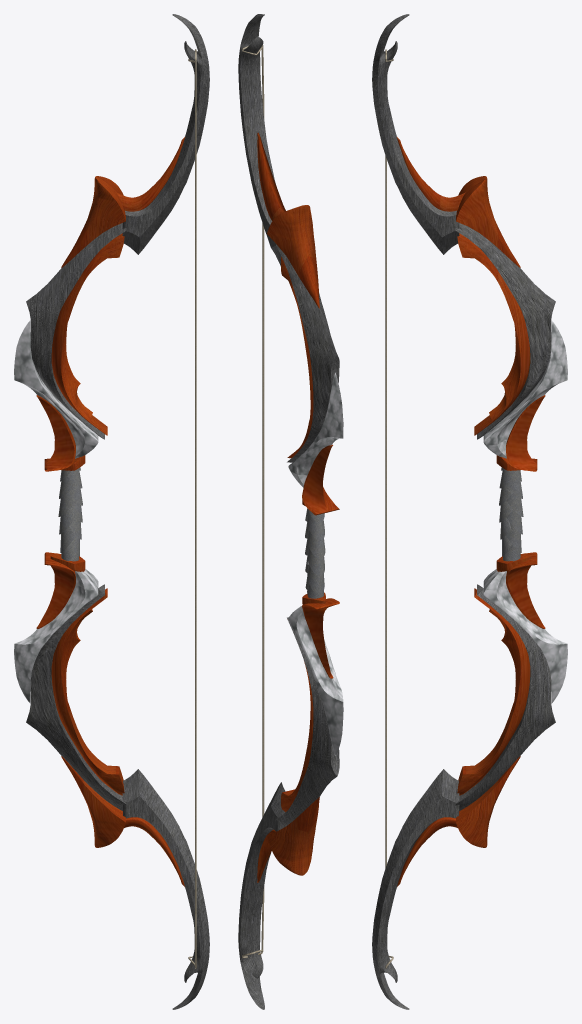
File: Bow.fbx
3 renders of one model, left to right at view 1: azimuth 90°, elevation 25°; view 2: azimuth 210°, elevation 25°; view 3: azimuth 270°, elevation 25°, orthographic.
Visible parts, largest first — view 1: Cube.014, Cube.006, Cube.003, Cube.011, Cube.012, Cube.004, Cube.009, Cube, Cube.005, Cylinder.006, Cylinder, Cube.013 (+4 smaller); view 2: Cube.014, Cube.006, Cube.003, Cube.011, Cube.005, Cube.009, Cylinder, Cube.013, Cube, Cylinder.006, Cube.001, Cube.008 (+4 smaller); view 3: Cube.014, Cube.006, Cube.003, Cube.011, Cube.012, Cube.004, Cube.009, Cube, Cube.005, Cylinder.006, Cube.013, Cylinder (+4 smaller).
Part boxes in pixels (bbox=[...]): Cube.014: bbox=[122, 769, 209, 1009]; Cube.006: bbox=[122, 14, 209, 254]; Cube.003: bbox=[26, 223, 126, 439]; Cube.011: bbox=[26, 584, 126, 810]; Cube.012: bbox=[51, 588, 124, 795]; Cube.004: bbox=[51, 233, 124, 435]; Cube.009: bbox=[14, 569, 98, 703]; Cube: bbox=[14, 320, 98, 458]; Cube.005: bbox=[61, 176, 125, 267]; Cylinder.006: bbox=[58, 467, 82, 561]; Cylinder: bbox=[188, 49, 196, 968]; Cube.013: bbox=[61, 756, 125, 847]; Cube.014: bbox=[238, 782, 285, 1009]; Cube.006: bbox=[238, 14, 281, 266]; Cube.003: bbox=[276, 244, 339, 462]; Cube.011: bbox=[276, 617, 339, 826]; Cube.005: bbox=[267, 205, 319, 308]; Cube.009: bbox=[288, 606, 343, 755]; Cylinder: bbox=[242, 45, 264, 958]; Cube.013: bbox=[267, 797, 319, 875]; Cube: bbox=[288, 372, 343, 487]; Cylinder.006: bbox=[305, 508, 325, 598]; Cube.001: bbox=[302, 444, 339, 515]; Cube.008: bbox=[302, 598, 339, 678]; Cube.014: bbox=[372, 769, 459, 1009]; Cube.006: bbox=[372, 14, 459, 254]; Cube.003: bbox=[455, 223, 555, 439]; Cube.011: bbox=[455, 584, 555, 810]; Cube.012: bbox=[457, 588, 530, 795]; Cube.004: bbox=[457, 233, 530, 435]; Cube.009: bbox=[483, 569, 567, 703]; Cube: bbox=[483, 320, 567, 458]; Cube.005: bbox=[456, 176, 520, 267]; Cylinder.006: bbox=[499, 467, 523, 561]; Cube.013: bbox=[456, 756, 520, 847]; Cylinder: bbox=[385, 49, 393, 968].
Size of the model in its own units: 30.45 by 700 by 125.
